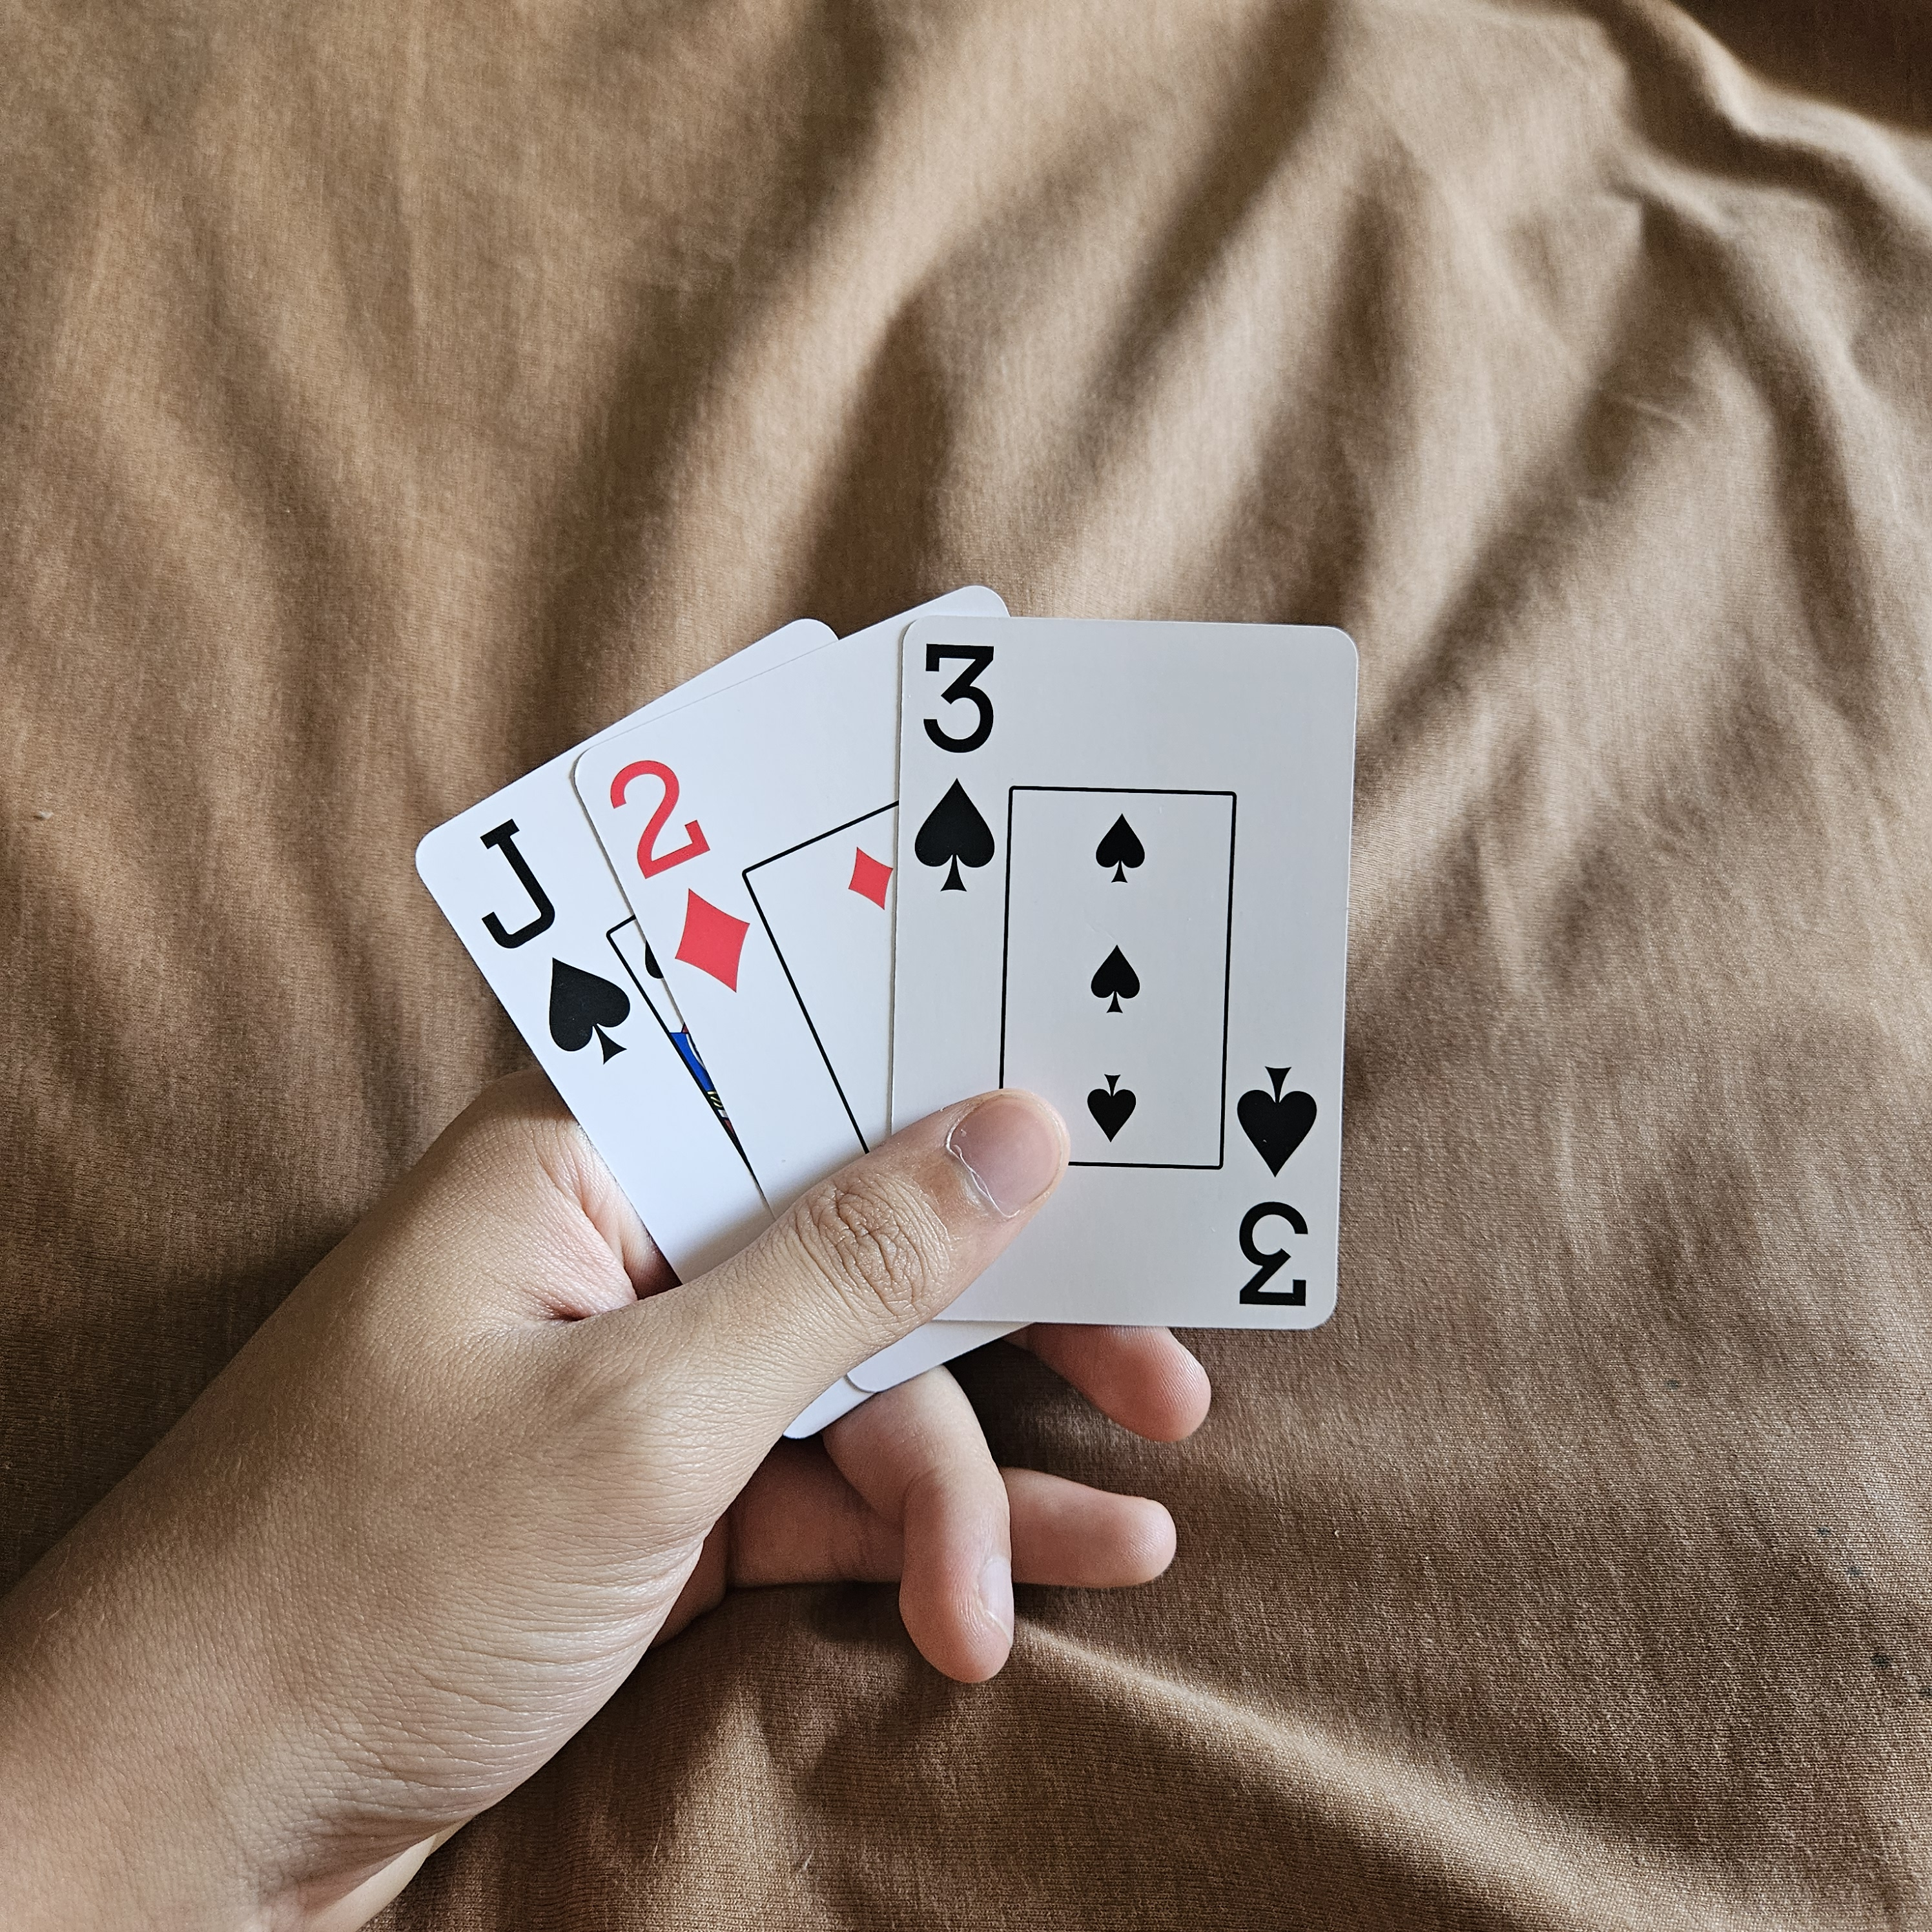2O: (602, 748, 768, 998)
3E: (1210, 1042, 1343, 1323), (897, 623, 1021, 906)
JE: (465, 812, 642, 1077)
